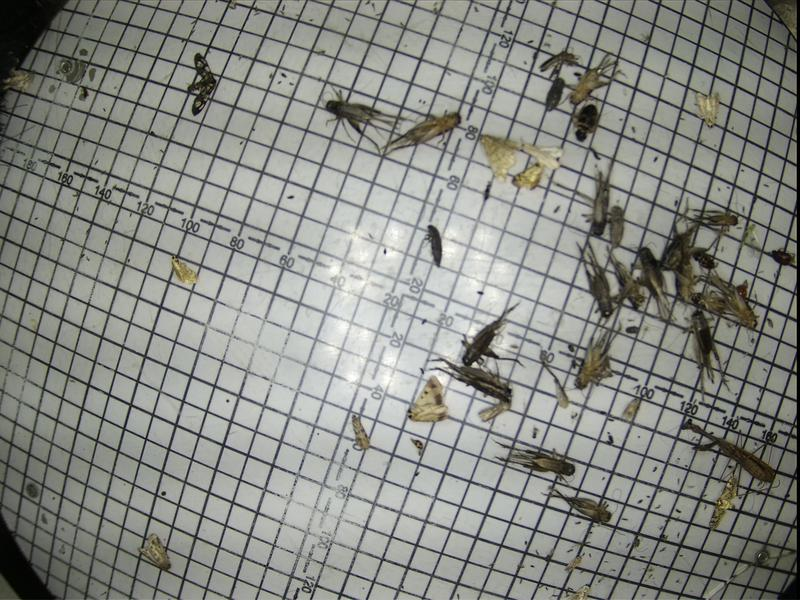Agriotes fuscicollis Miwa: (539, 73, 564, 114), (423, 221, 443, 268)
Bollworm: (401, 374, 447, 424)
Meadow borer: (692, 88, 722, 129)
